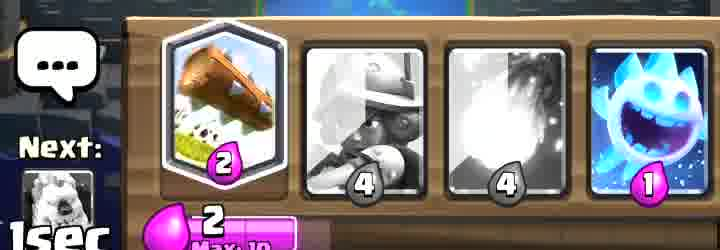ice-spirit: (595, 45, 711, 200)
log: (170, 18, 281, 169)
